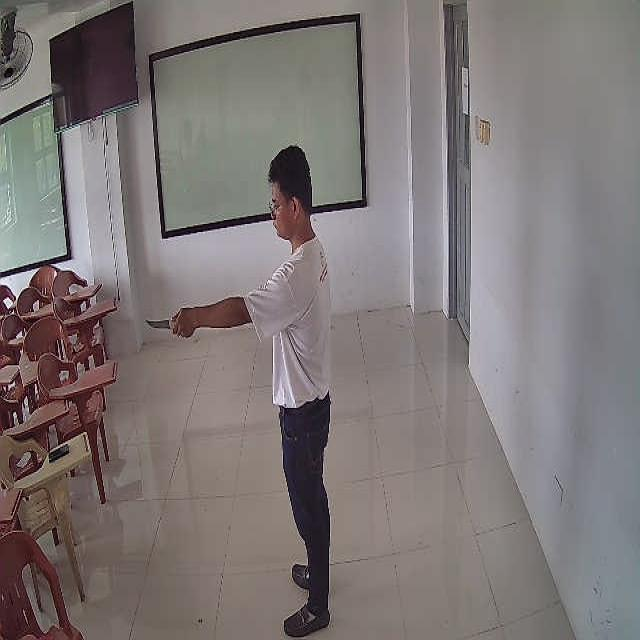knife: (146, 319, 175, 329)
